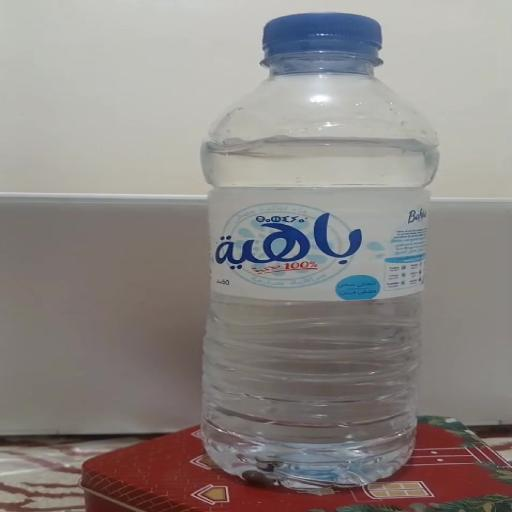bouteille conformite: (173, 20, 455, 489)
